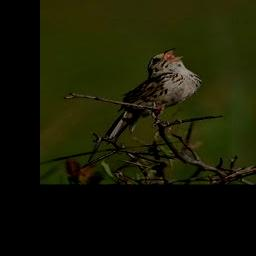Sparrow: (100, 47, 206, 148)
